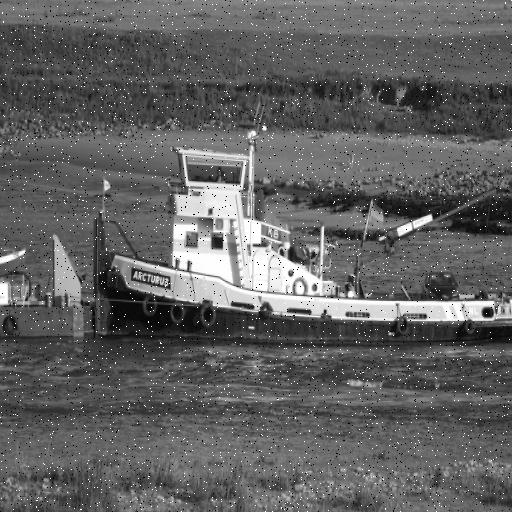tugboat: (92, 125, 512, 360)
